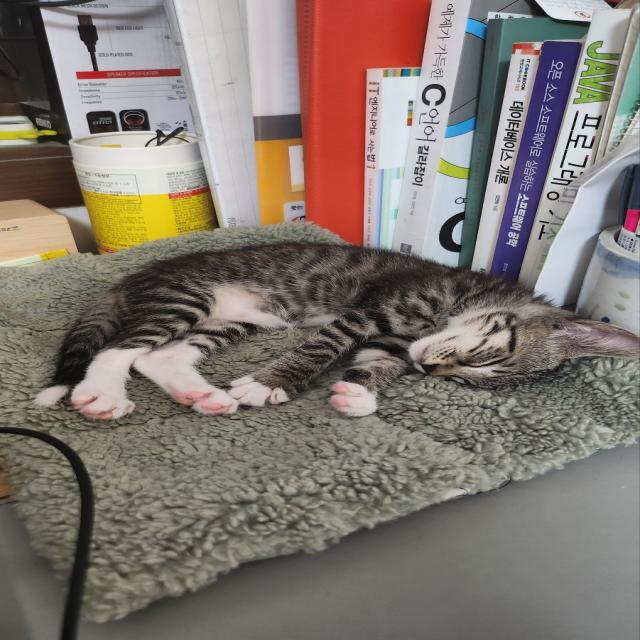cat: (33, 236, 640, 418)
